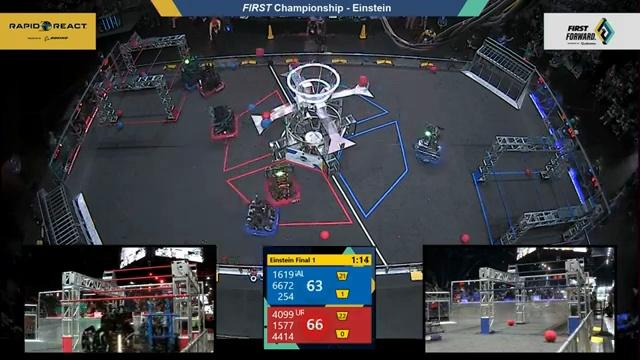robot: (257, 160, 304, 208), (411, 120, 446, 171), (235, 201, 284, 235), (207, 102, 239, 145), (193, 67, 227, 103), (175, 52, 206, 90)
